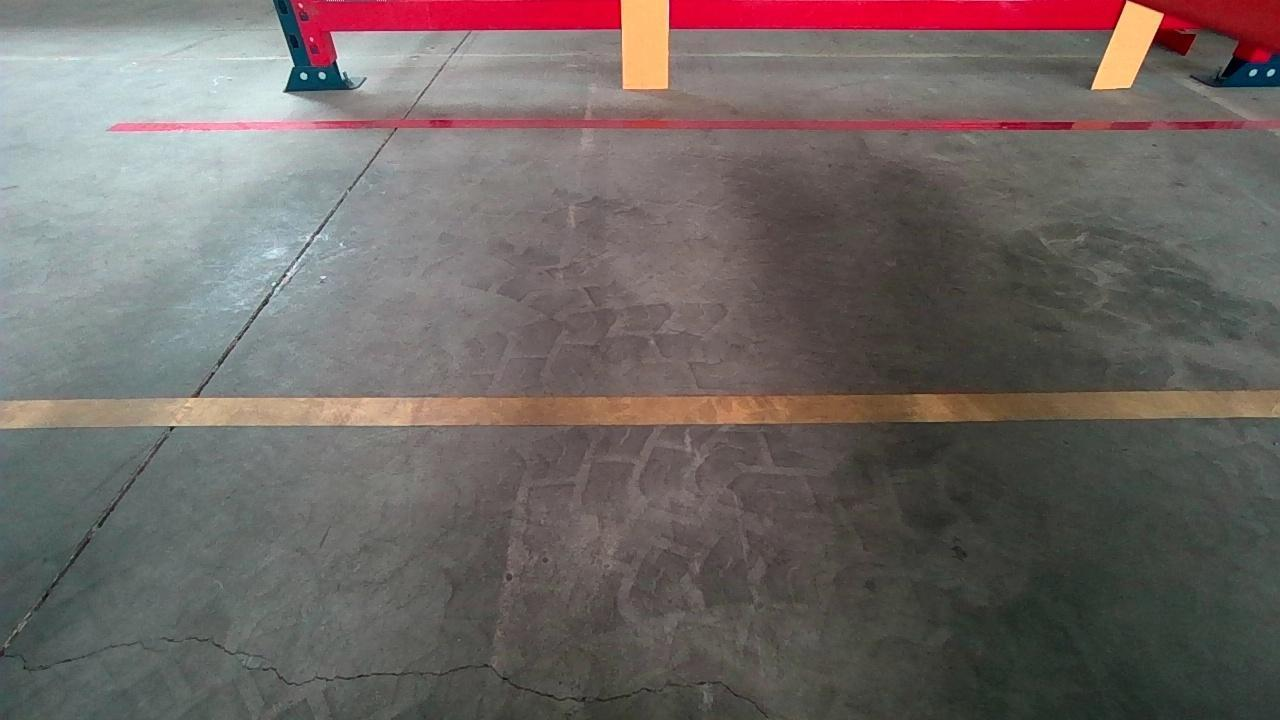h_rack: (320, 0, 1178, 45)
orange_strip: (1092, 3, 1166, 86), (621, 0, 670, 86)
red_line: (124, 107, 1259, 145)
yellow_line: (9, 382, 1275, 434)
